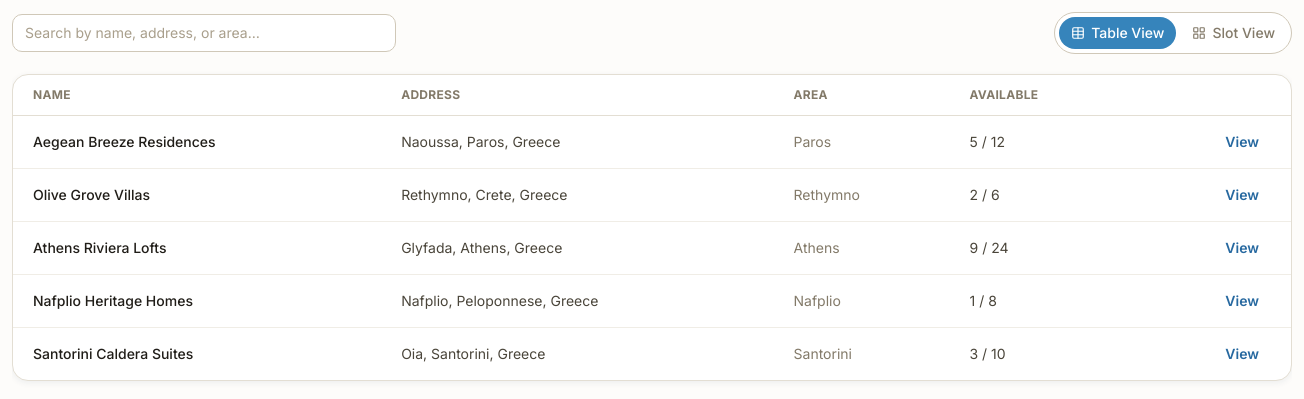
Test: ProjectsExplorer › shows an empty-state message when no project matches the search
Type "nonexistent-project-xyz" into the field named "Search projects" at (204, 33), box [12,14,396,52]
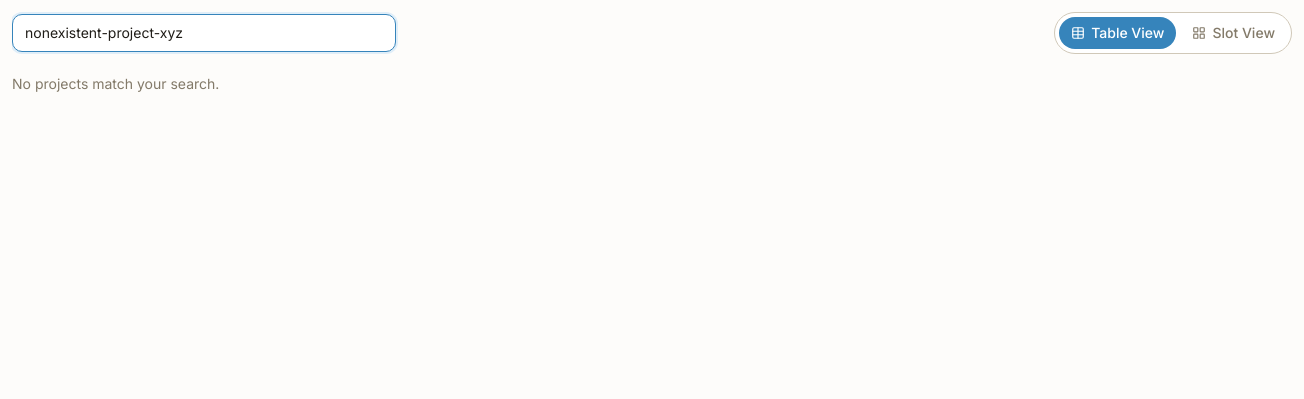
Expected: the text "No projects match your search." is shown, [12,75,219,92]
Expected: the table is gone
